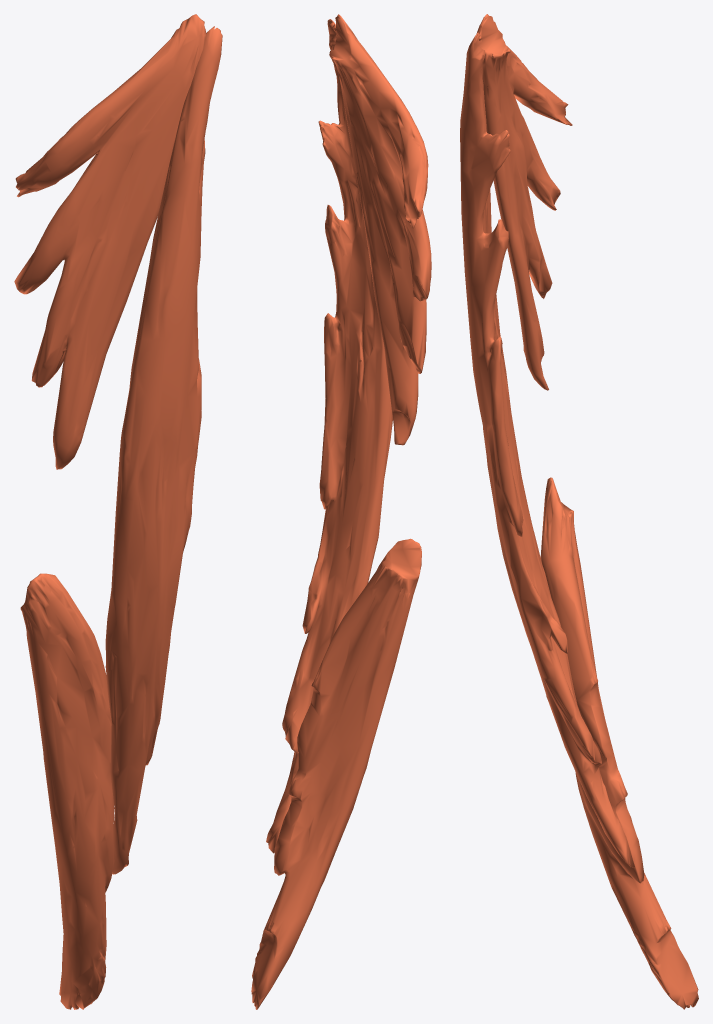
File: Longus_colli_muscle.r_Generated_Mesh_From_X3D.365.glb
3 views of the same model, side by side, from view 1: azimuth 30°, elevation 25°; view 2: azimuth 150°, elevation 25°; view 3: azimuth 270°, elevation 25° (orthographic). The views are drawn at different scales.
Parts seen in each view (by area): view 1: Longus_colli_muscle.r_Generated_Mesh_From_X3D.365; view 2: Longus_colli_muscle.r_Generated_Mesh_From_X3D.365; view 3: Longus_colli_muscle.r_Generated_Mesh_From_X3D.365.
Boxes of the visible parts, x1,y1,x2,y2 form: Longus_colli_muscle.r_Generated_Mesh_From_X3D.365: (14, 14, 222, 1009); Longus_colli_muscle.r_Generated_Mesh_From_X3D.365: (251, 14, 431, 1009); Longus_colli_muscle.r_Generated_Mesh_From_X3D.365: (460, 14, 698, 1009).
Bounding box in the file's own units: 0.0248 × 0.1574 × 0.0341.
